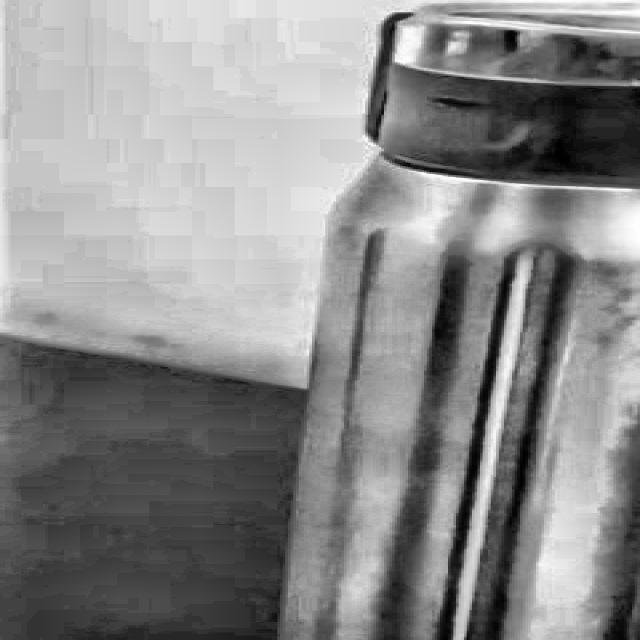bottle: (275, 3, 640, 640)
